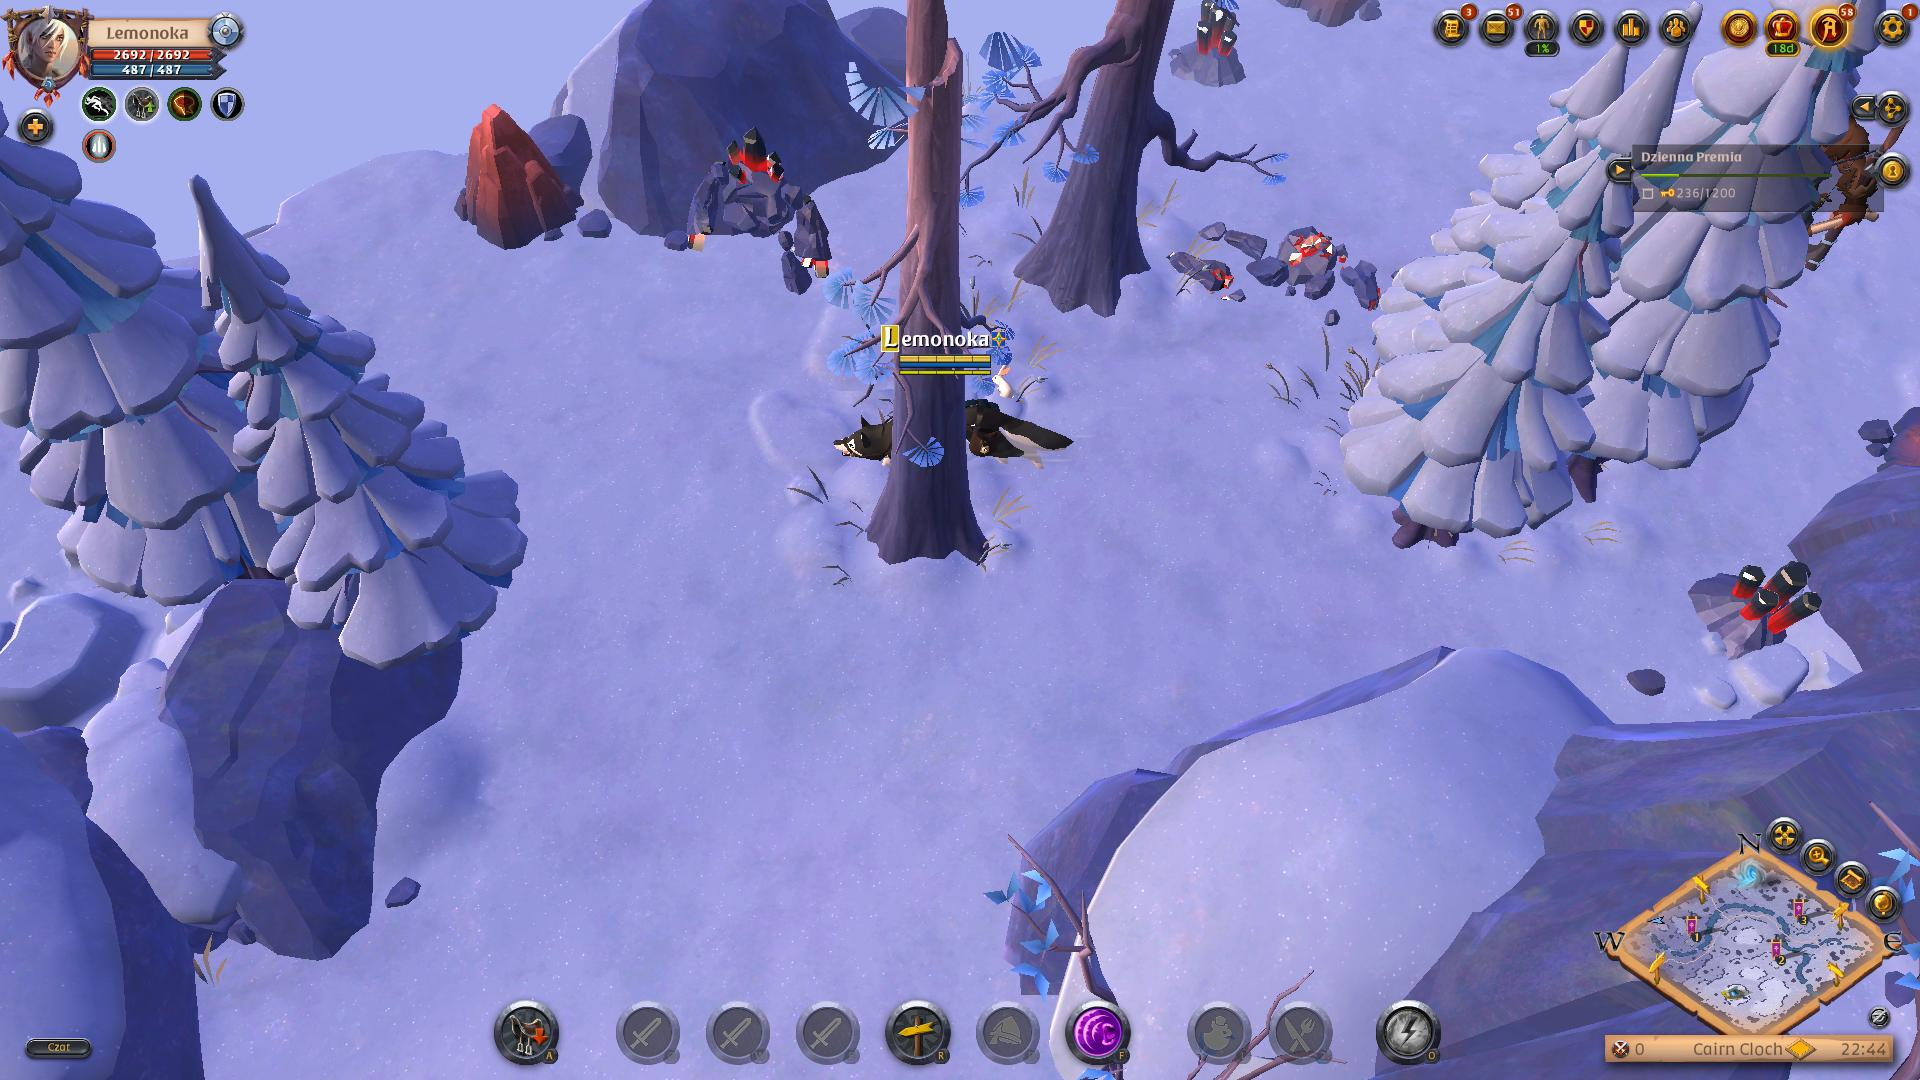ore tier 5: (1700, 551, 1820, 662), (1164, 7, 1251, 94)
rock tier 5: (452, 103, 587, 255)
